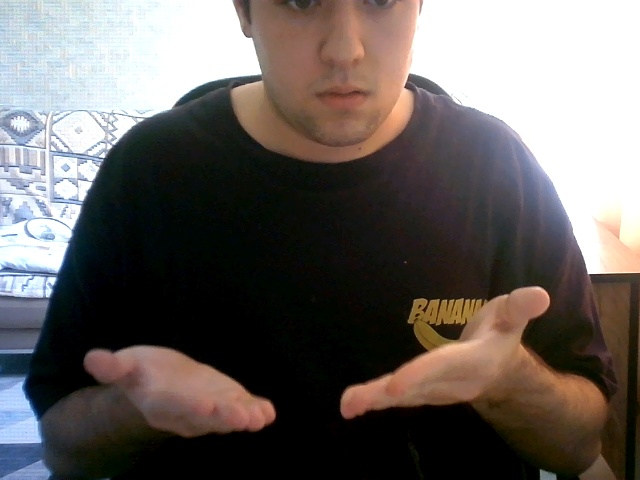hello: (55, 284, 593, 454)
